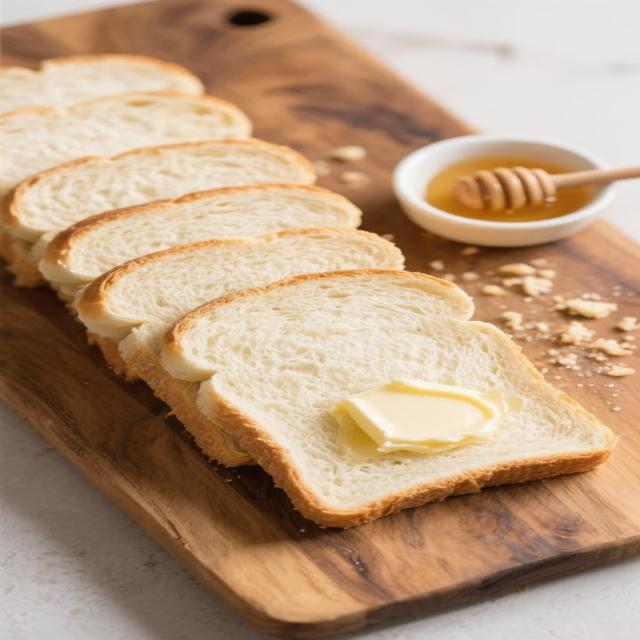sliced_bread: (162, 271, 615, 526), (77, 228, 403, 465), (2, 139, 315, 285), (40, 184, 361, 296), (0, 92, 251, 197), (0, 54, 203, 112)
